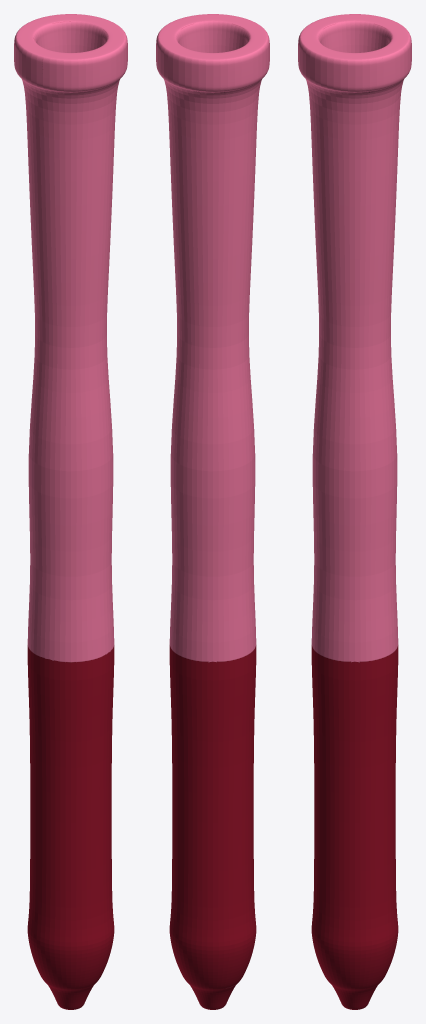
Rendered from Tubo Deforme 3(ESCALADO).fbx.
The picture shows the model from 3 angles, left to right: view 1: azimuth 30°, elevation 25°; view 2: azimuth 150°, elevation 25°; view 3: azimuth 330°, elevation 25°; orthographic projection.
Parts seen in each view (by area): view 1: Tubo_Deformado_3; view 2: Tubo_Deformado_3; view 3: Tubo_Deformado_3.
Part boxes in pixels (x1=…): Tubo_Deformado_3: x1=14, y1=14, x2=127, y2=1009; Tubo_Deformado_3: x1=156, y1=14, x2=269, y2=1009; Tubo_Deformado_3: x1=298, y1=14, x2=411, y2=1009.
Bounding box in the file's own units: 0.0376 × 0.3535 × 0.0376.
